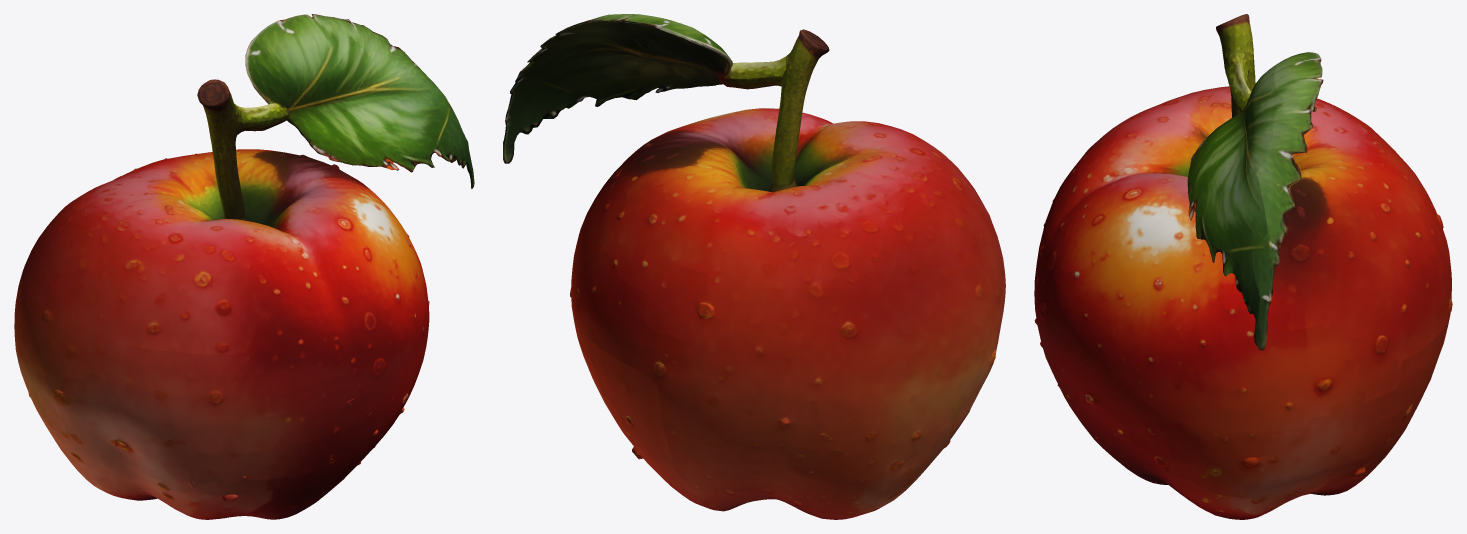
File: Apple.glb
The picture shows the model from 3 angles, left to right: view 1: azimuth 30°, elevation 25°; view 2: azimuth 150°, elevation 25°; view 3: azimuth 270°, elevation 25°; orthographic projection. The views are drawn at different scales.
Visible parts, largest first — view 1: fruit; view 2: fruit; view 3: fruit.
Boxes of the visible parts, bbox=[...] form: fruit: bbox=[14, 14, 474, 519]; fruit: bbox=[503, 14, 1005, 519]; fruit: bbox=[1034, 14, 1452, 519].
Bounding box in the file's own units: 1.5 × 1.39 × 1.14.
Materials: 1 (1 with a texture image).
